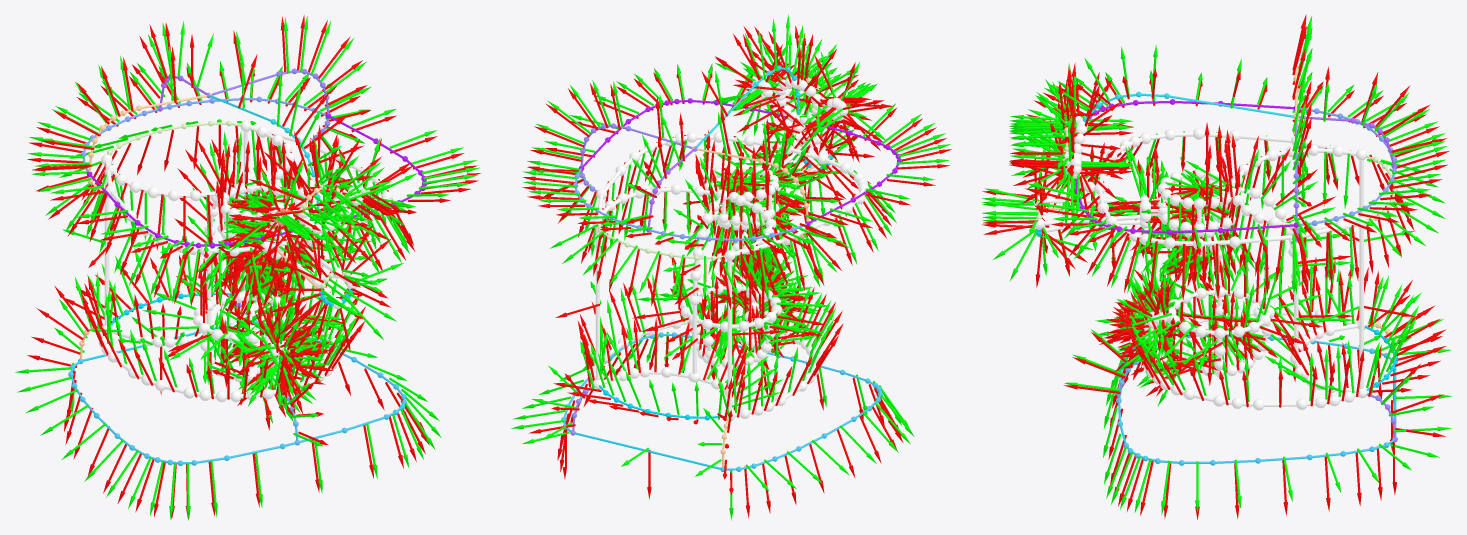
The model's file is flowsurf_expresso.gltf.
3 views of the same model, side by side, from view 1: azimuth 30°, elevation 25°; view 2: azimuth 150°, elevation 25°; view 3: azimuth 270°, elevation 25° (orthographic). The views are drawn at different scales.
Size of the model in its own units: 0.7265 by 0.7805 by 0.8133.
